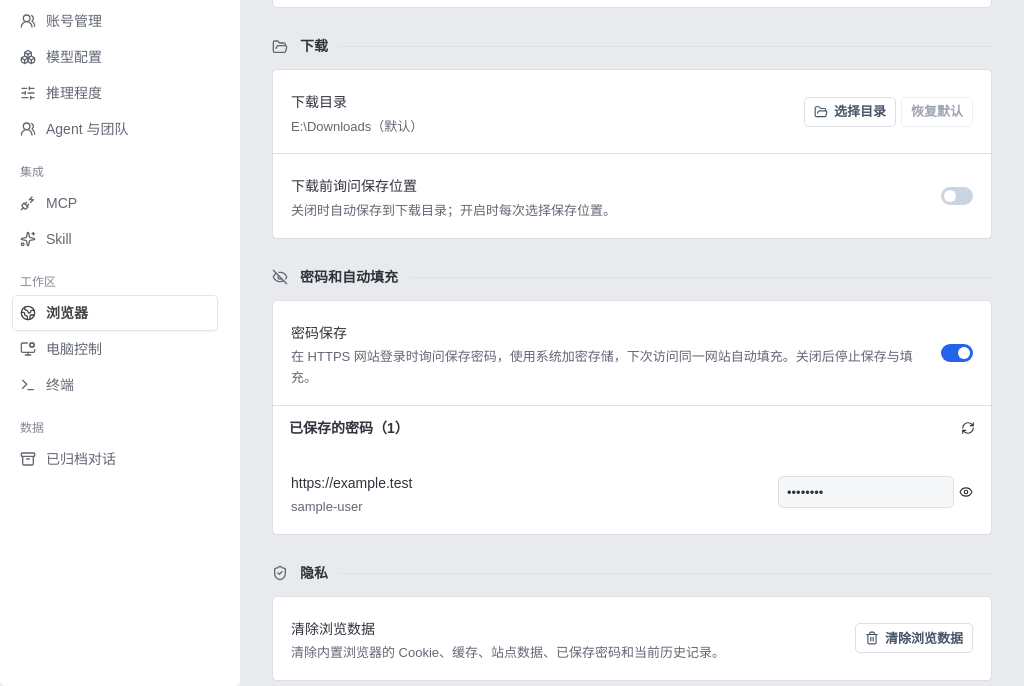
Test: SettingsWorkspace › displays the resolved default download directory and reveals passwords only on request
(page scrolled)
Expected: the password field named "https://example.test 的密码" does not hold "sample-secret", top-left (778, 476), bottom-right (954, 508)
Click the button named "查看 https://example.test 的密码" at (966,492), box top-left (959, 485), bottom-right (973, 499)
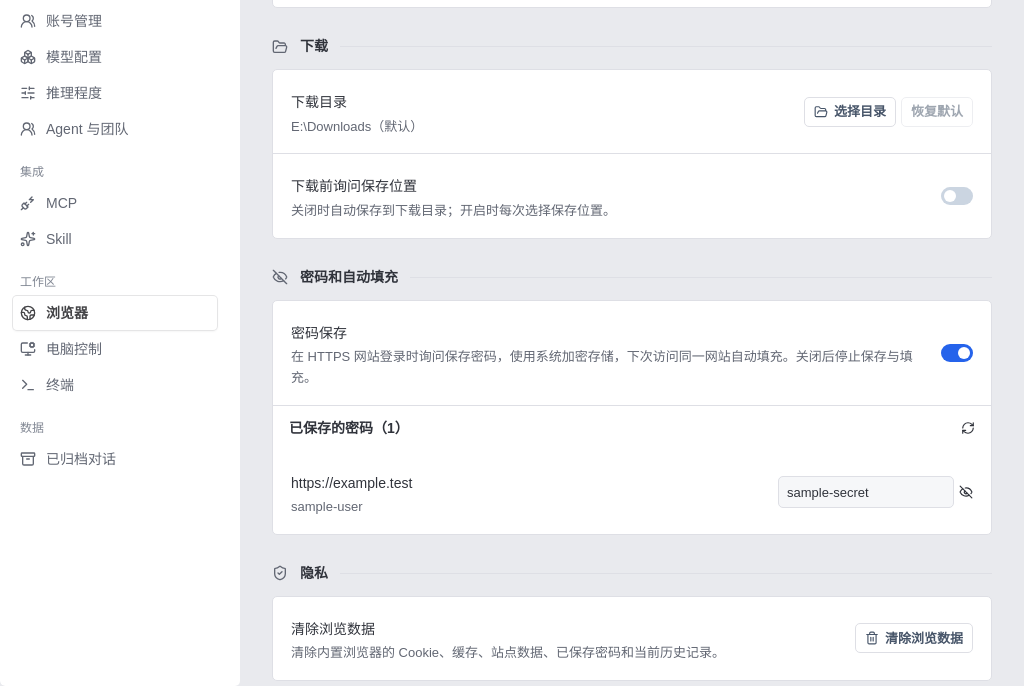
Expected: the field named "https://example.test 的密码" holds "sample-secret", top-left (778, 476), bottom-right (954, 508)
Click the button named "隐藏 https://example.test 的密码" at (966,492), box top-left (959, 485), bottom-right (973, 499)
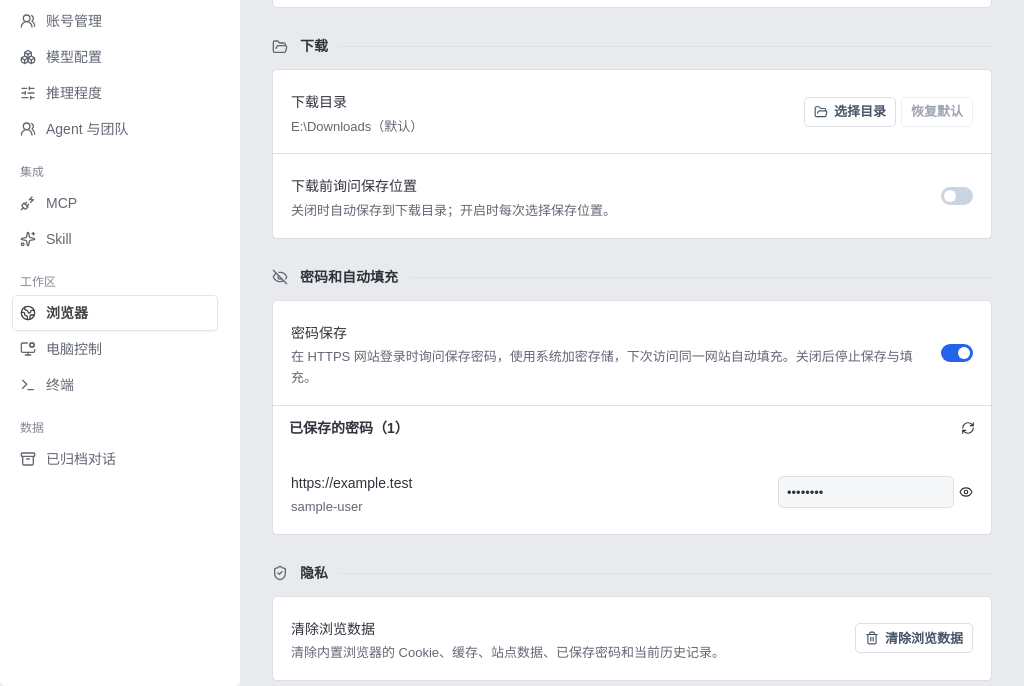
Expected: the password field named "https://example.test 的密码" does not hold "sample-secret", top-left (778, 476), bottom-right (954, 508)
Click the button "清除浏览数据" at (914,638), box top-left (855, 623), bottom-right (973, 653)
(page scrolled)
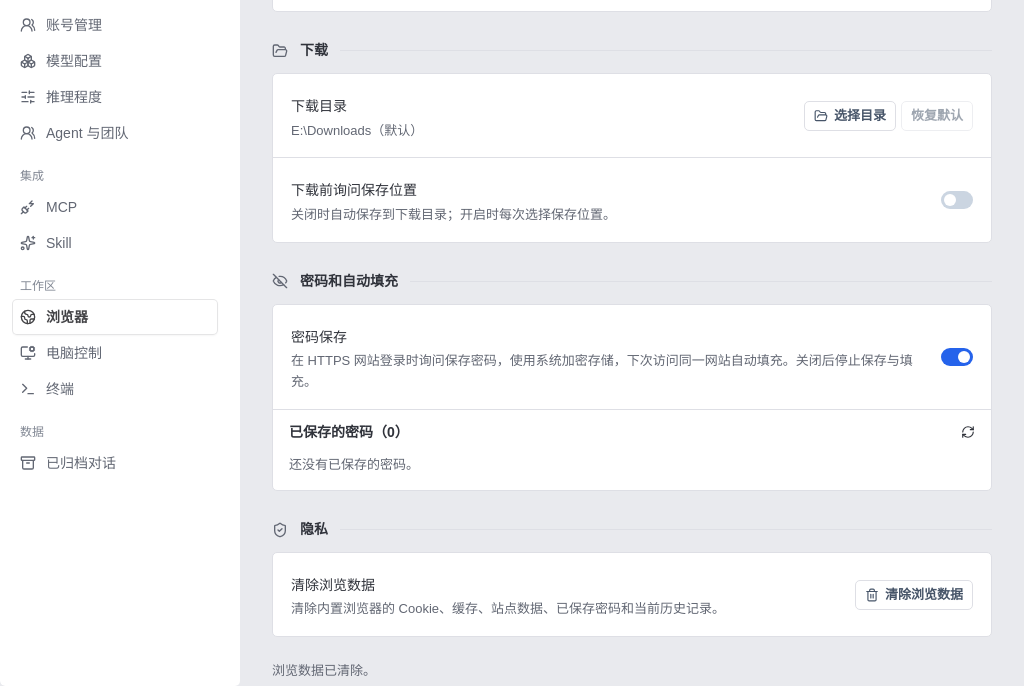
Expected: the text "还没有已保存的密码" is shown, top-left (289, 456), bottom-right (419, 472)
